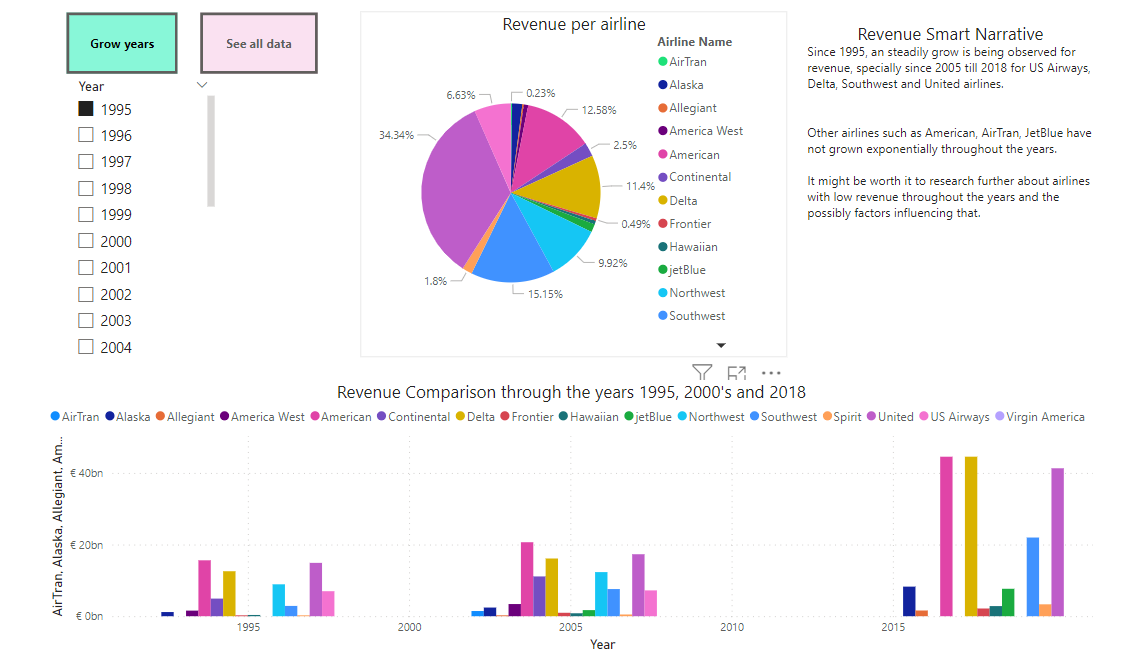

The page's visual inventory and layout, read from the dashboard file:
{"tool":"powerbi","page":{"name":"Revenue","canvas":[1280,720],"ordinal":0},"visuals":[{"type":"slicer","fields":{"Values":["airline_revenues.Year"]},"box":[50.6,24.7,206.5,366.2],"z":0},{"type":"pieChart","title":"Revenue per airline","fields":{"Y":["Avg(airline_revenues.AirTran)","Avg(airline_revenues.Alaska)","Avg(airline_revenues.Allegiant)","Avg(airline_revenues.America West)","Avg(airline_revenues.American)","Avg(airline_revenues.Continental)","Avg(airline_revenues.Delta)","Avg(airline_revenues.Frontier)","Avg(airline_revenues.Hawaiian)","Avg(airline_revenues.jetBlue)","Sum(airline_revenues.Northwest)","Sum(airline_revenues.Southwest)"]},"box":[225.1,23,498.8,378.6],"z":1000},{"type":"clusteredColumnChart","title":"Revenue Comparison through the years 1995, 2000''s and 2018","fields":{"Category":["airline_expenses.Year"],"Y":["Avg(airline_revenues.AirTran)","Avg(airline_revenues.Alaska)","Avg(airline_revenues.Allegiant)","Avg(airline_revenues.America West)","Avg(airline_revenues.American)","Avg(airline_revenues.Continental)","Avg(airline_revenues.Delta)","Avg(airline_revenues.Frontier)","Avg(airline_revenues.Hawaiian)","Avg(airline_revenues.jetBlue)","Sum(airline_revenues.Northwest)","Sum(airline_revenues.Southwest)"]},"box":[50.6,416.9,1153.2,302.6],"z":2000},{"type":"textbox","title":"Narrative-Revenue","box":[767.5,23.4,436.4,336.4],"z":3000}]}

Visuals, with their boxes in screenshot pixels (x1, y1, x2, y2), scaled from the page's 1280x720 canvas onto the 1132x656 screenshot:
slicer - airline_revenues.Year: rect(45, 23, 227, 356)
"Revenue per airline" pieChart: rect(199, 21, 640, 366)
"Revenue Comparison through the years 1995, 2000''s and 2018" clusteredColumnChart: rect(45, 380, 1065, 655)
"Narrative-Revenue" textbox: rect(679, 21, 1065, 328)
